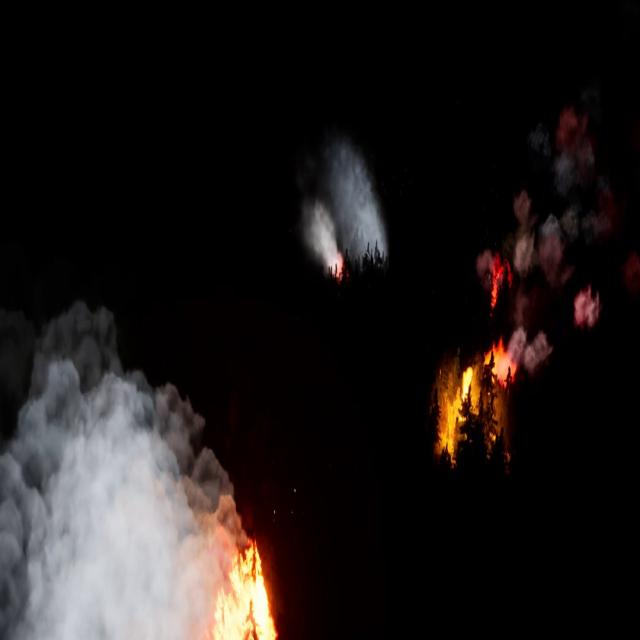fire: (0, 299, 251, 639), (434, 344, 510, 472), (213, 536, 282, 639)
smoke: (481, 95, 618, 378), (302, 142, 390, 280)
